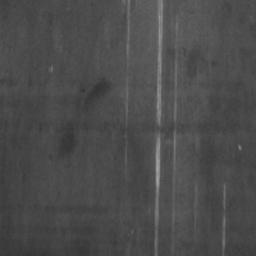Bright scratch: (156, 0, 164, 124), (155, 138, 161, 256)
